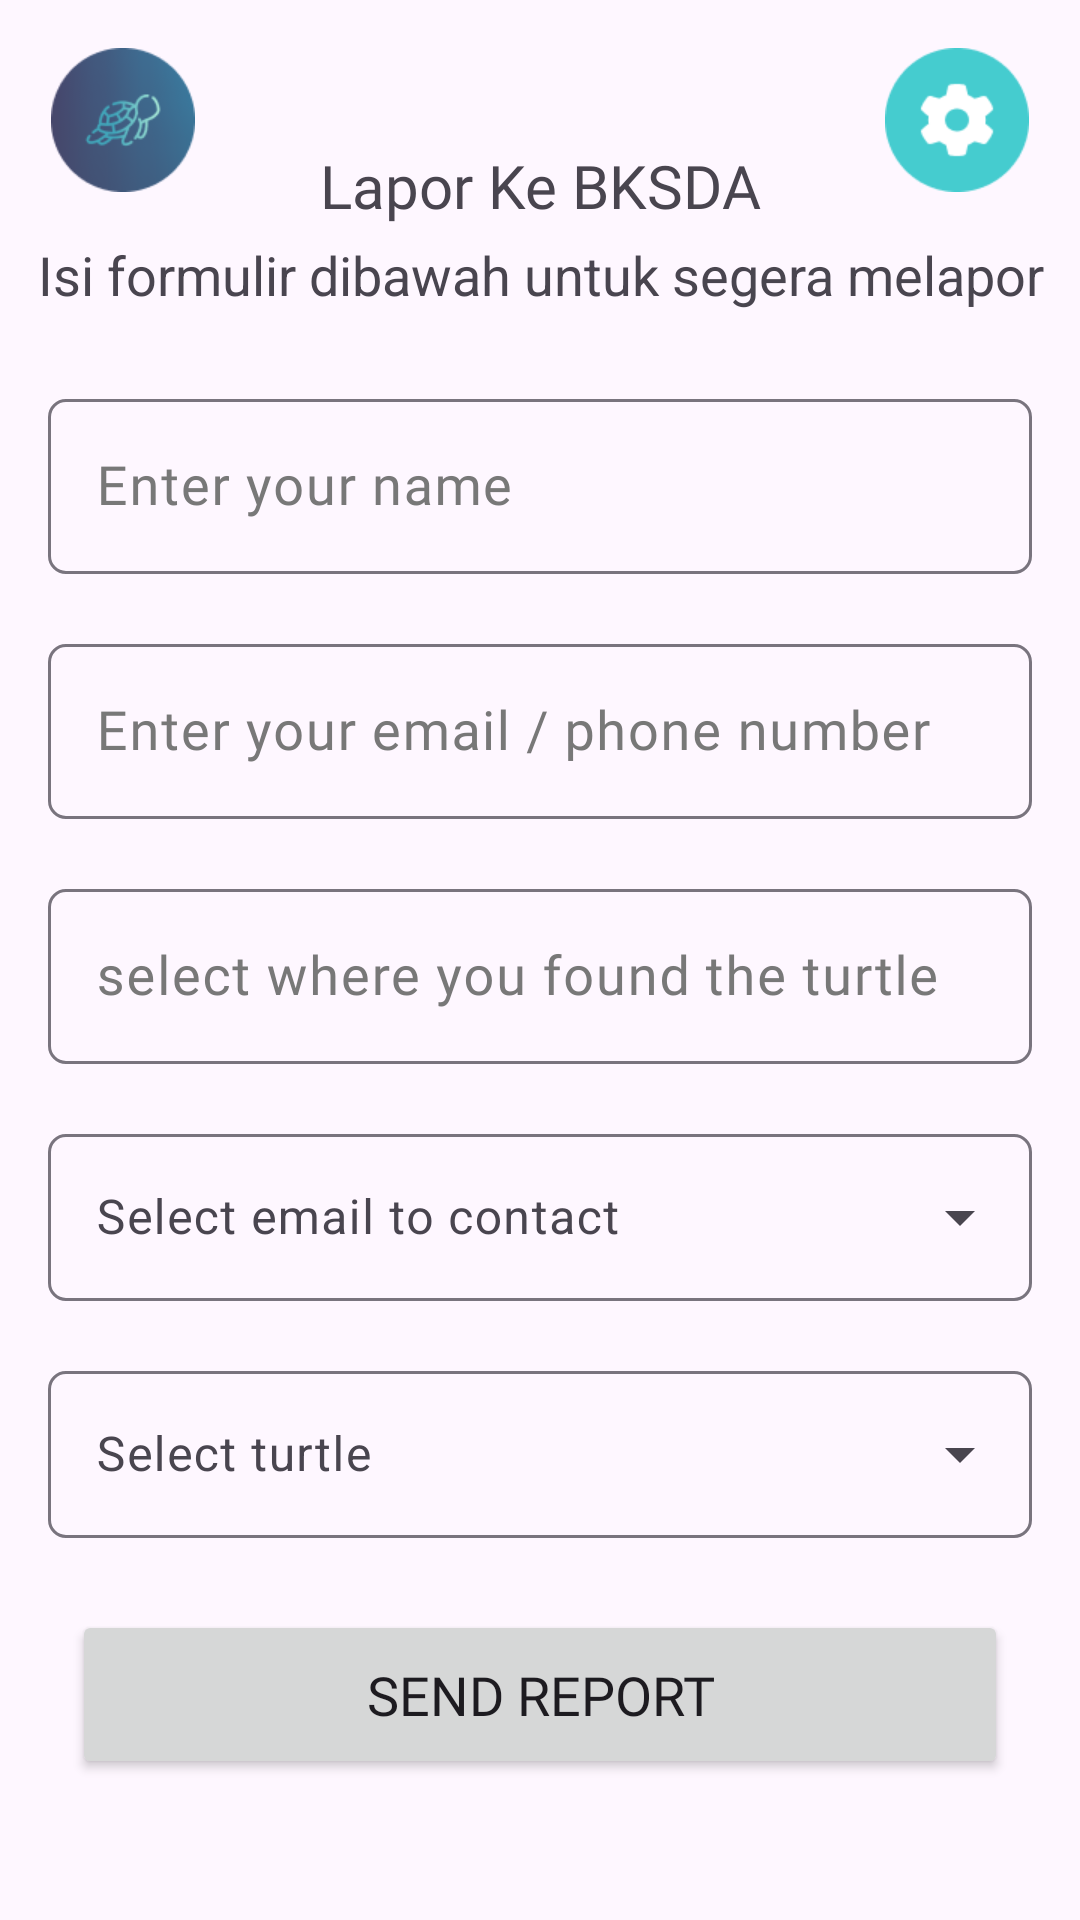

Named icons in this screenshot (1080w x 1920h) and their bounding boxes, [left=x1, top=y1, right=x2, bottom=y2]:
settings rounded: [left=885, top=48, right=1029, bottom=192]
